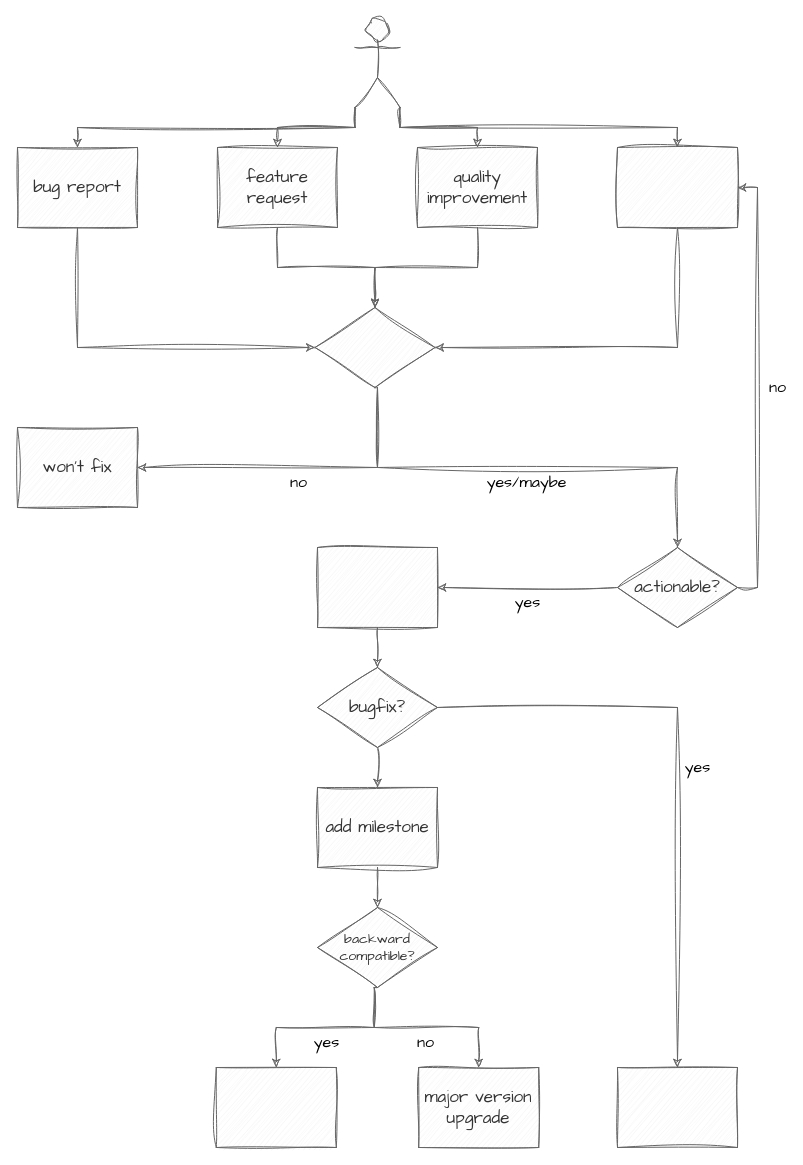
This 803x1165 diagram has some shape labels left out. The centre of each missing label's shape, as x and y in pixels:
"discussion" goes at (x=677, y=187).
"minor version upgrade" goes at (x=275, y=1107).
"patch version upgrade" goes at (x=677, y=1107).
"prepare task" goes at (x=377, y=587).
"relevant?" goes at (x=374, y=347).
